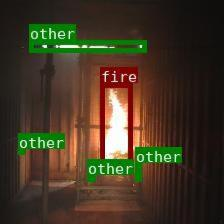fire: (99, 83, 132, 163)
